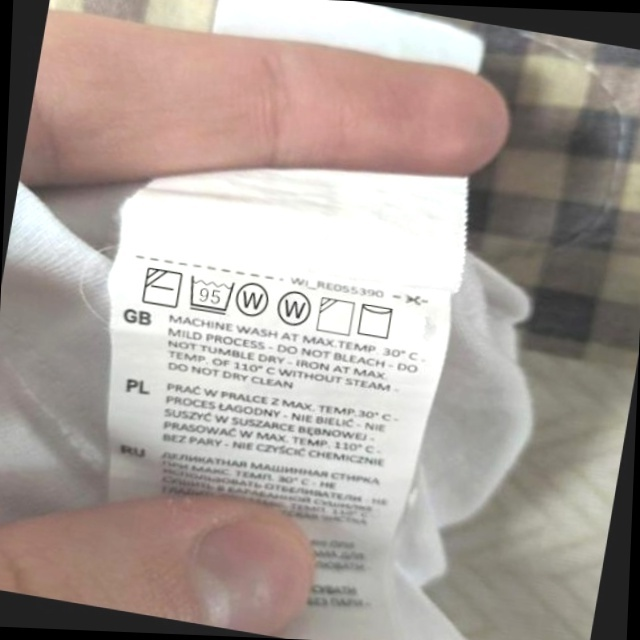95C: (184, 271, 238, 317)
dry_flat_in_shade: (139, 263, 185, 311)
line_dry: (354, 298, 399, 343)
shade_dry: (314, 293, 358, 339)
wet_clean: (273, 287, 316, 332), (233, 276, 275, 322)
